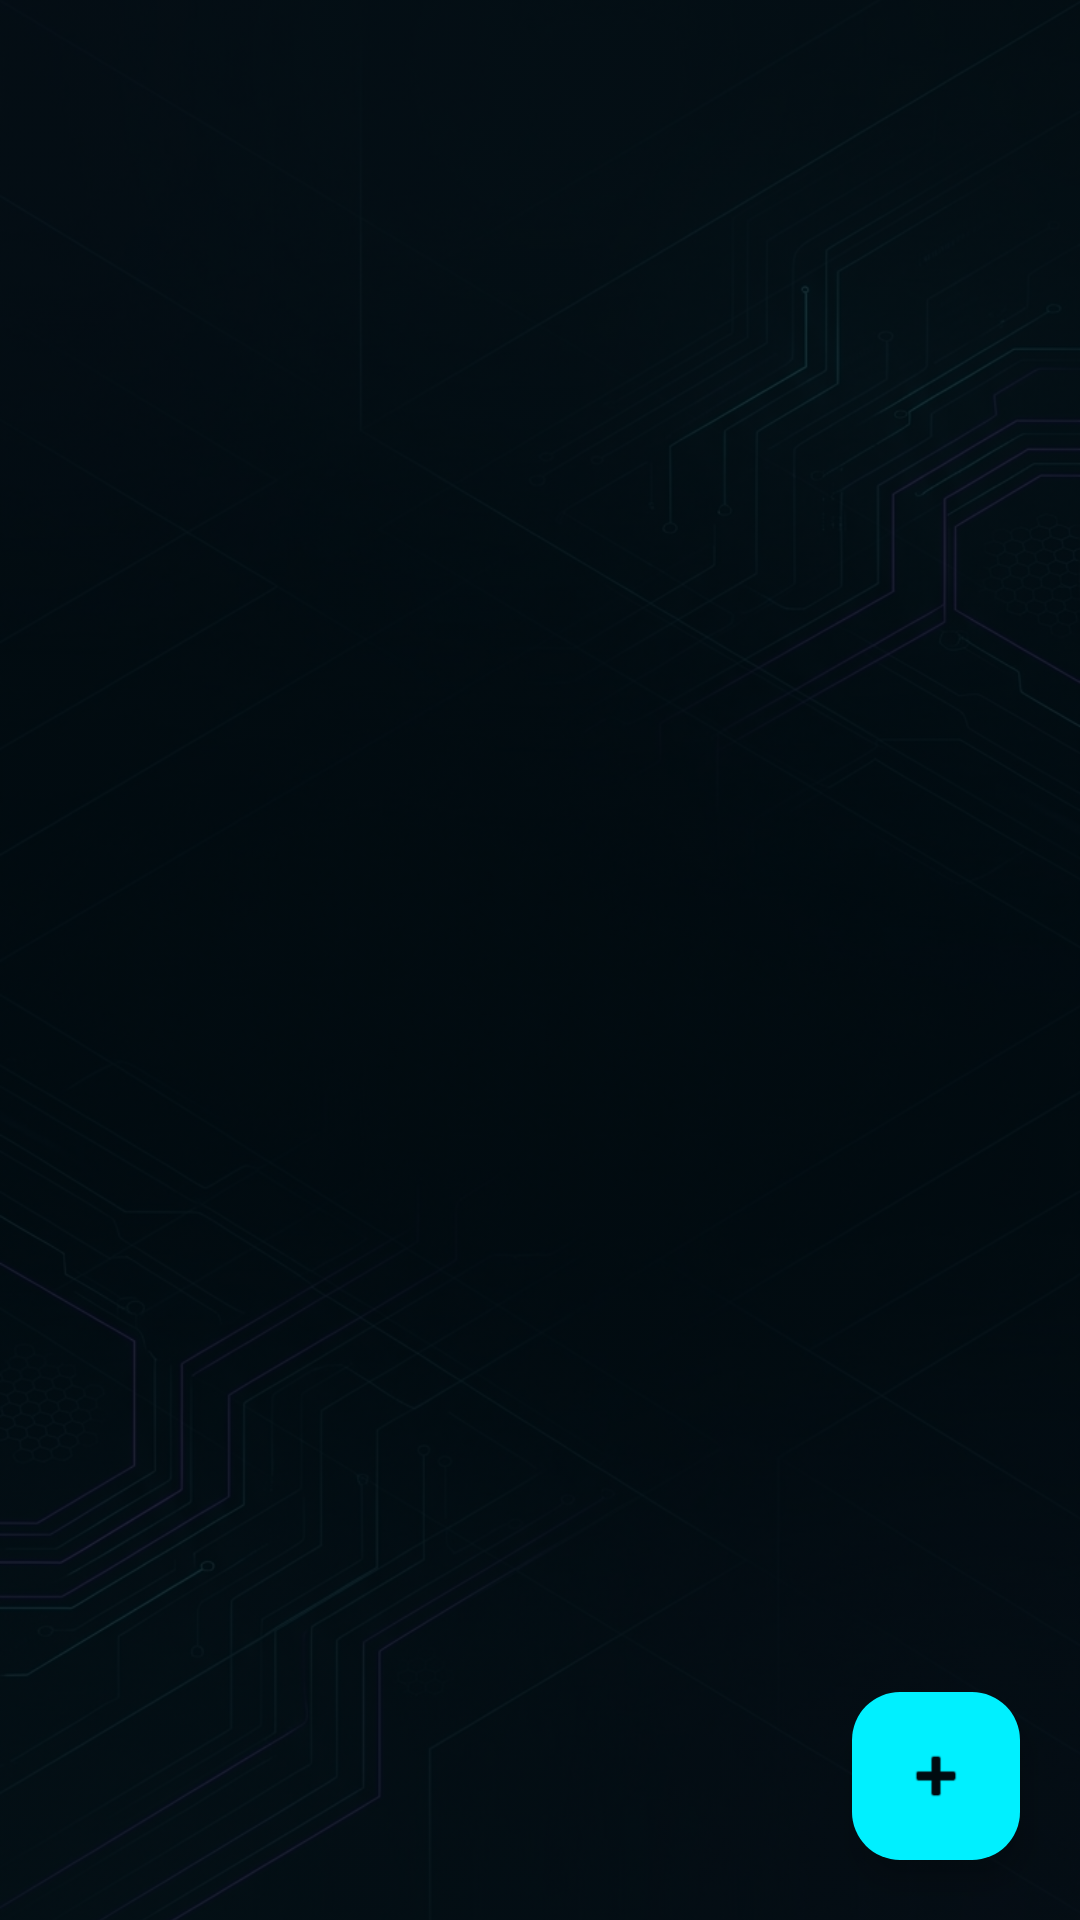

Named icons in this screenshot (1080 × 1920) and their bounding boxes, (x1, y1, x2, y2):
Nayi category: (852, 1692, 1020, 1860)
